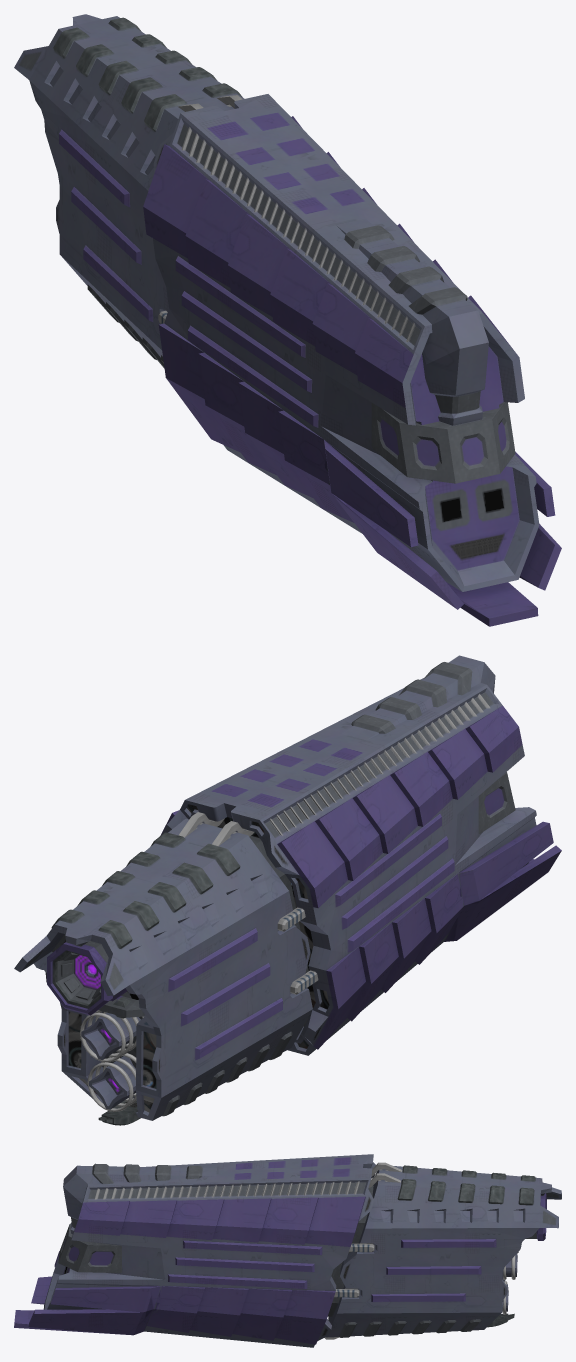
File: proteron-b.glb
The picture shows the model from 3 angles, top to bottom: view 1: azimuth 30°, elevation 25°; view 2: azimuth 150°, elevation 25°; view 3: azimuth 270°, elevation 25°; orthographic projection. The views are drawn at different scales.
Parts seen in each view (by area): view 1: MeshLP; view 2: MeshLP, Torus; view 3: MeshLP.
Boxes of the visible parts, box(x1,y1,x2,y2) form: MeshLP: box(14, 14, 561, 626); MeshLP: box(14, 655, 561, 1125); Torus: box(80, 1010, 143, 1111); MeshLP: box(14, 1154, 561, 1347).
Size of the model in its own units: 4.83 by 7.5 by 21.8.
Materials: 2 (2 with a texture image).
